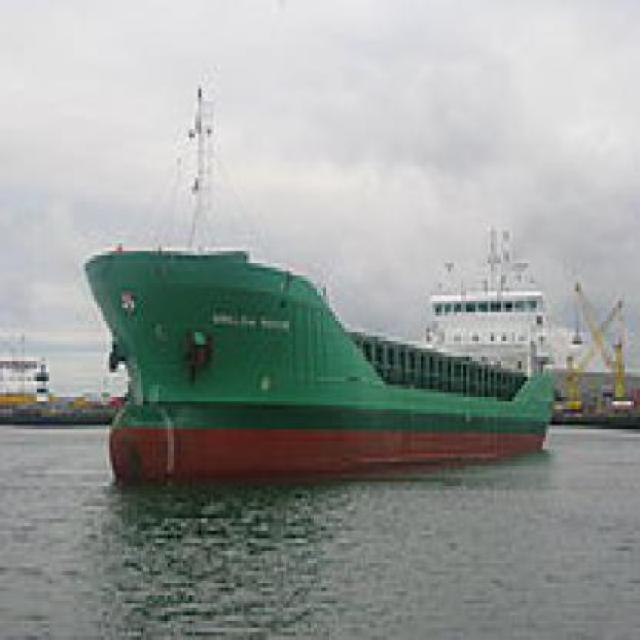container: (68, 127, 568, 484)
